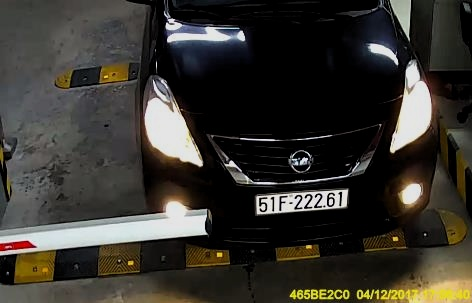plate: (255, 191, 349, 212)
